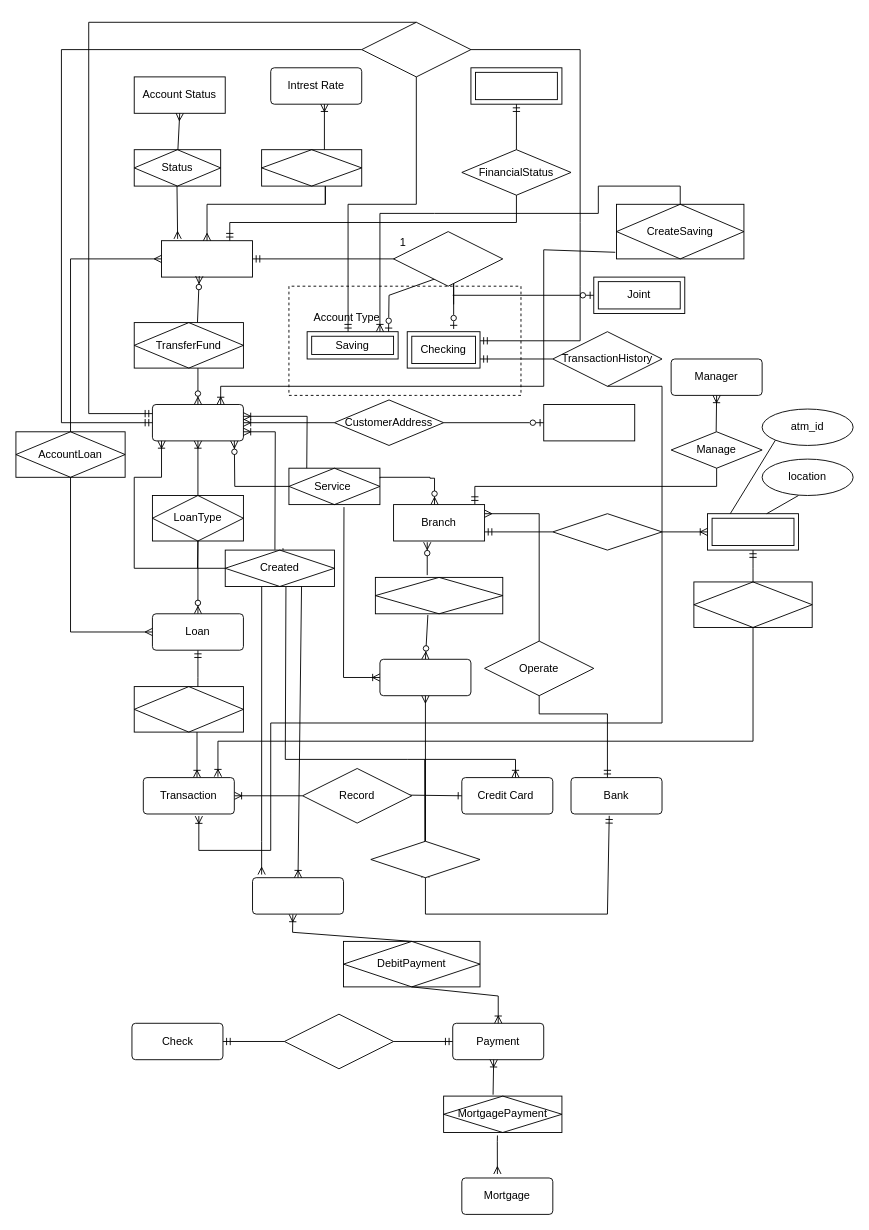
The diagram is 869 pixels wide and 1230 high, and some of its shapes have lost their labels. The box of each missing label's shape, as (x1, y1, x2, y2) in pixels:
Account: (161, 240, 253, 277)
Address: (543, 404, 635, 441)
Atm: (707, 513, 799, 550)
BranchATM: (552, 513, 662, 550)
CheckPayment: (283, 1013, 394, 1069)
Credit Score: (470, 67, 562, 104)
Customer: (152, 404, 243, 441)
Debit Card: (252, 877, 344, 914)
Employe: (370, 840, 480, 878)
Employee: (379, 658, 471, 696)
FinancialRate: (261, 149, 362, 186)
iInitiateTransaction: (693, 581, 812, 627)
JobAssignmnent: (374, 576, 503, 614)
Relationship: (393, 231, 503, 286)
TypesofTransaction: (133, 686, 243, 732)
ViewBalance: (361, 21, 471, 77)
